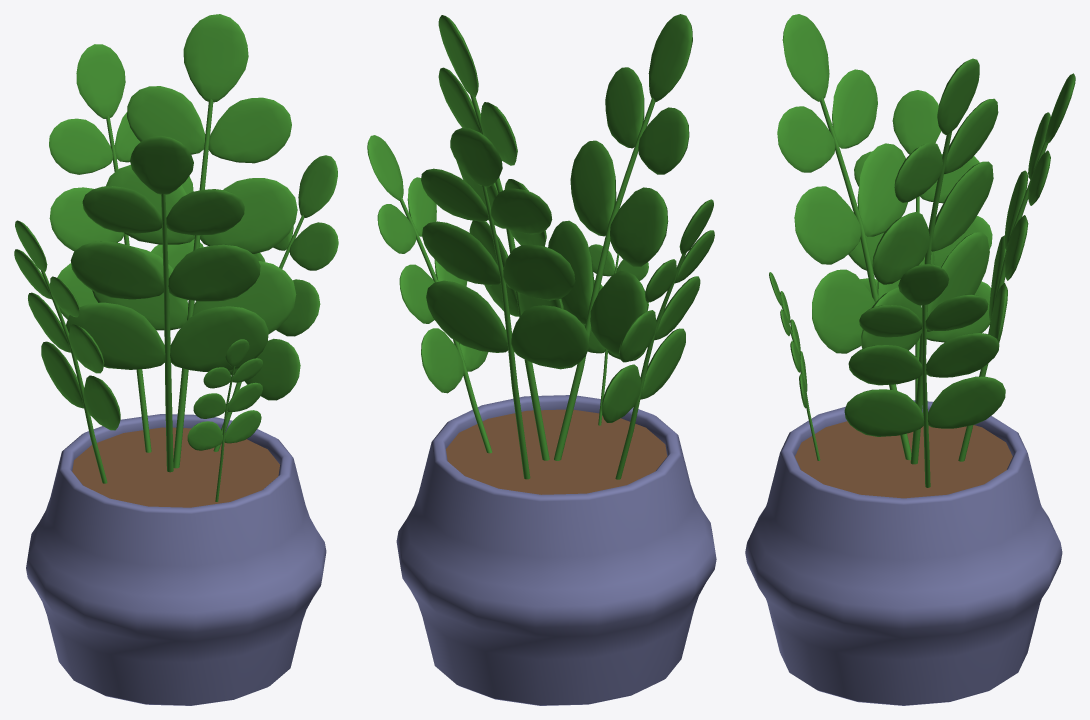
File: Plant_19.glb
3 renders of one model, left to right at view 1: azimuth 30°, elevation 25°; view 2: azimuth 150°, elevation 25°; view 3: azimuth 270°, elevation 25°, orthographic. The views are drawn at different scales.
Visible parts, largest first — view 1: Plant_19; view 2: Plant_19; view 3: Plant_19.
Boxes of the visible parts, left/top/right/bottom form: Plant_19: left=14, top=14, right=338, bottom=705; Plant_19: left=367, top=14, right=716, bottom=705; Plant_19: left=745, top=14, right=1075, bottom=705.
Size of the model in its own units: 0.7479 by 1.37 by 0.649.
1 material, 1 textured.
